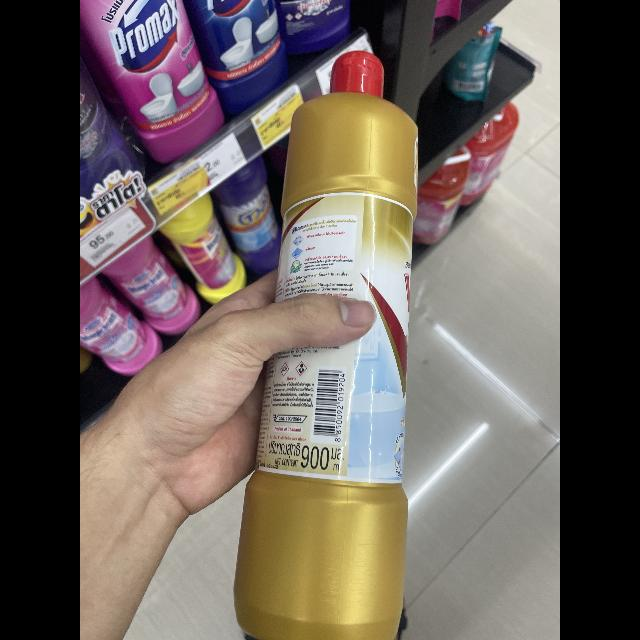chemical_plastic_bottle: (236, 45, 419, 640)
